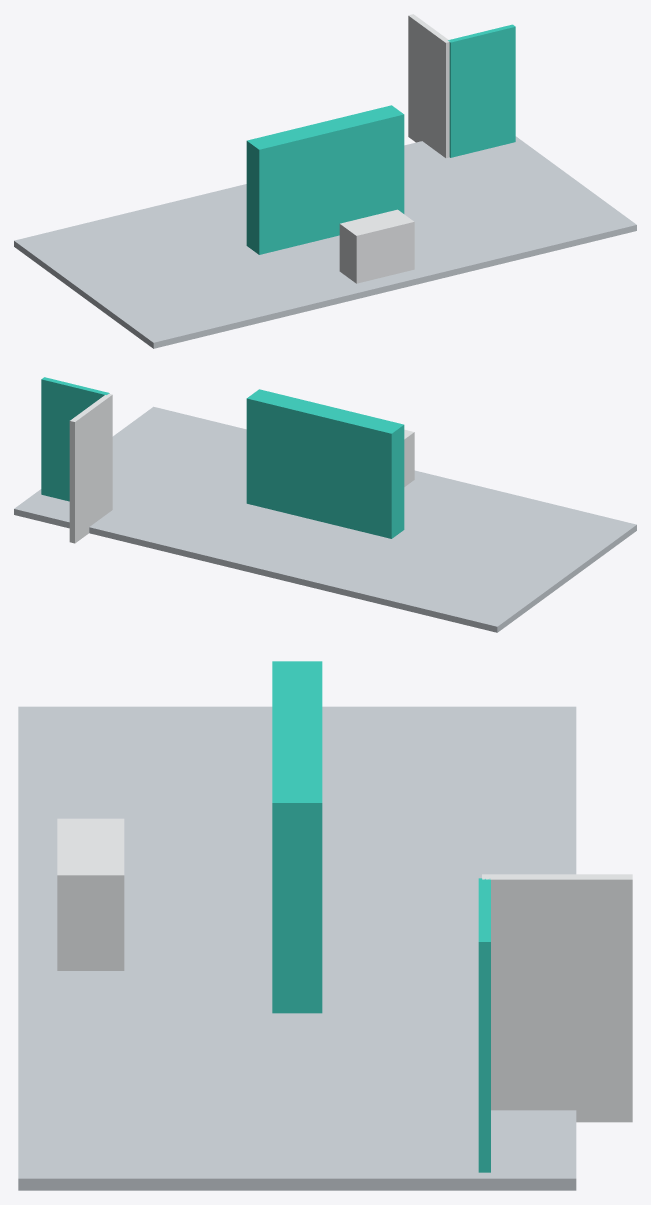
3 views of the same model, one above another, from view 1: azimuth 30°, elevation 25°; view 2: azimuth 150°, elevation 25°; view 3: azimuth 270°, elevation 25° (orthographic). The views are drawn at different scales.
Visible parts, largest first — view 1: Exhibition Booth Concept; view 2: Exhibition Booth Concept; view 3: Exhibition Booth Concept.
Part boxes in pixels (x1,y1,x2,y2): Exhibition Booth Concept: [14, 14, 636, 348]; Exhibition Booth Concept: [14, 377, 636, 632]; Exhibition Booth Concept: [18, 661, 632, 1190].
Bounding box in the file's own units: 10 × 2.4 × 5.51.
